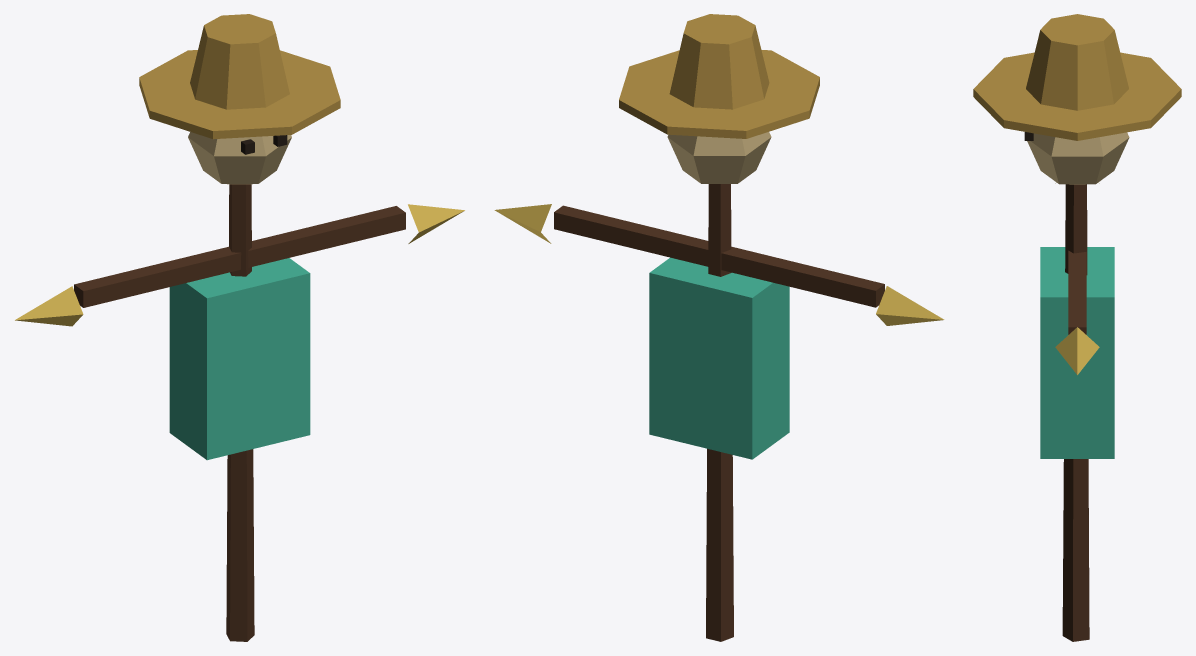
Rendered from prop_scarecrow.glb.
3 renders of one model, left to right at view 1: azimuth 30°, elevation 25°; view 2: azimuth 150°, elevation 25°; view 3: azimuth 270°, elevation 25°, orthographic.
Parts seen in each view (by area): view 1: prop_scarecrow; view 2: prop_scarecrow; view 3: prop_scarecrow.
Part boxes in pixels (left/top/right/bottom): prop_scarecrow: left=15, top=14, right=464, bottom=641; prop_scarecrow: left=494, top=14, right=944, bottom=641; prop_scarecrow: left=973, top=14, right=1181, bottom=641.
Bounding box in the file's own units: 0.7 × 0.9 × 0.28.
